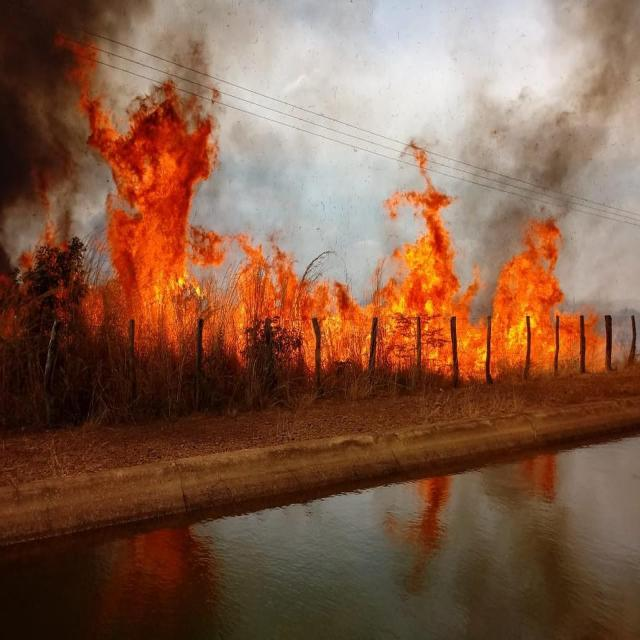fire: (73, 54, 609, 369)
